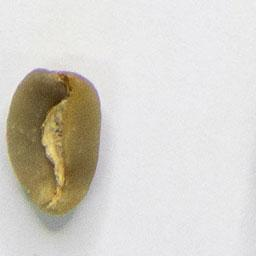longberry: (5, 65, 103, 216)
